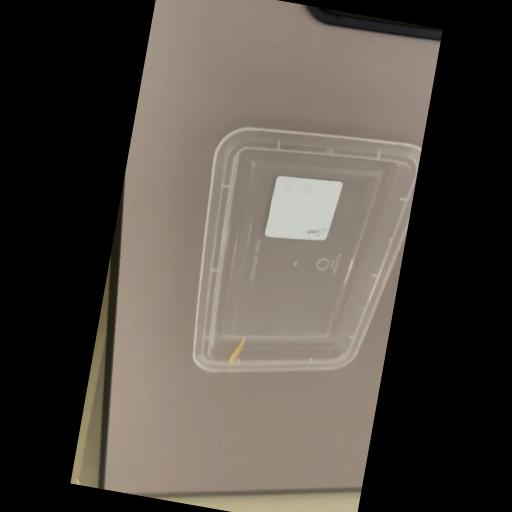rigid_plastic_lid: (184, 107, 422, 403)
